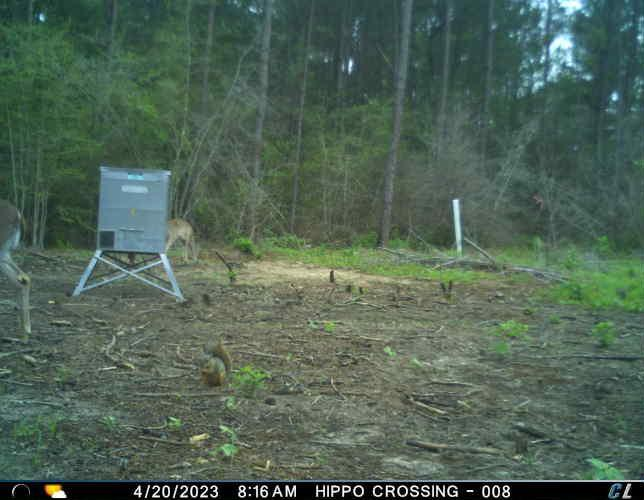Deer: (0, 195, 38, 346), (164, 214, 201, 264)
